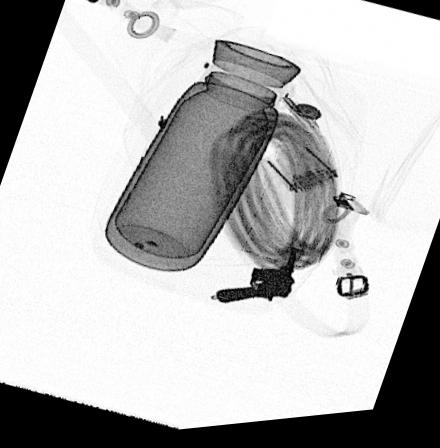Gun: (215, 252, 298, 309)
